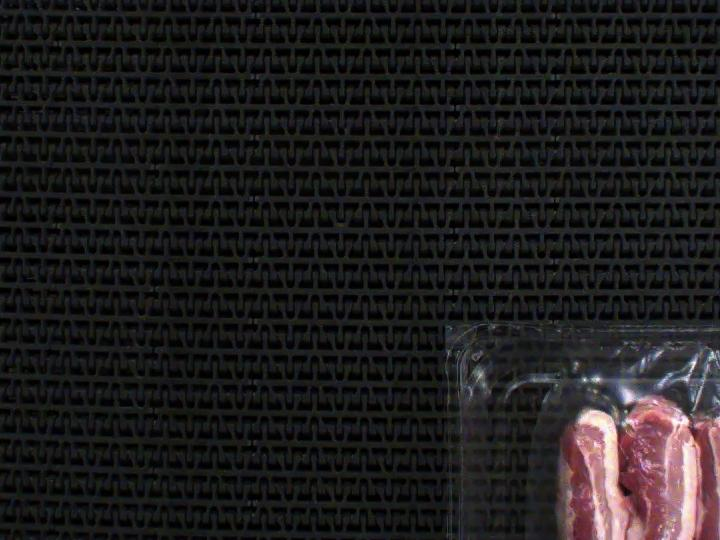unsealed: (510, 315, 720, 540)
